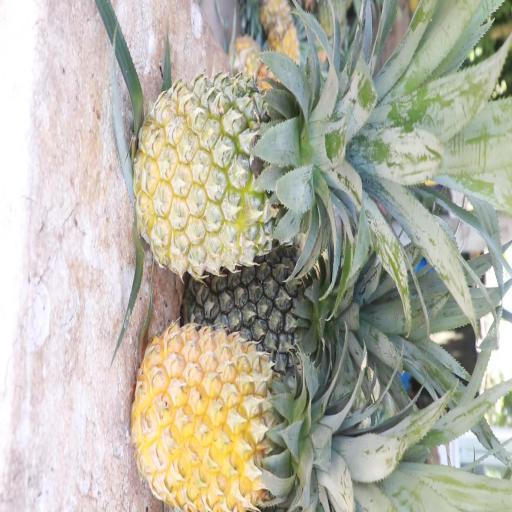------------------------------: (129, 74, 314, 270)
Pineapple - v8 v1: (139, 324, 315, 506)
